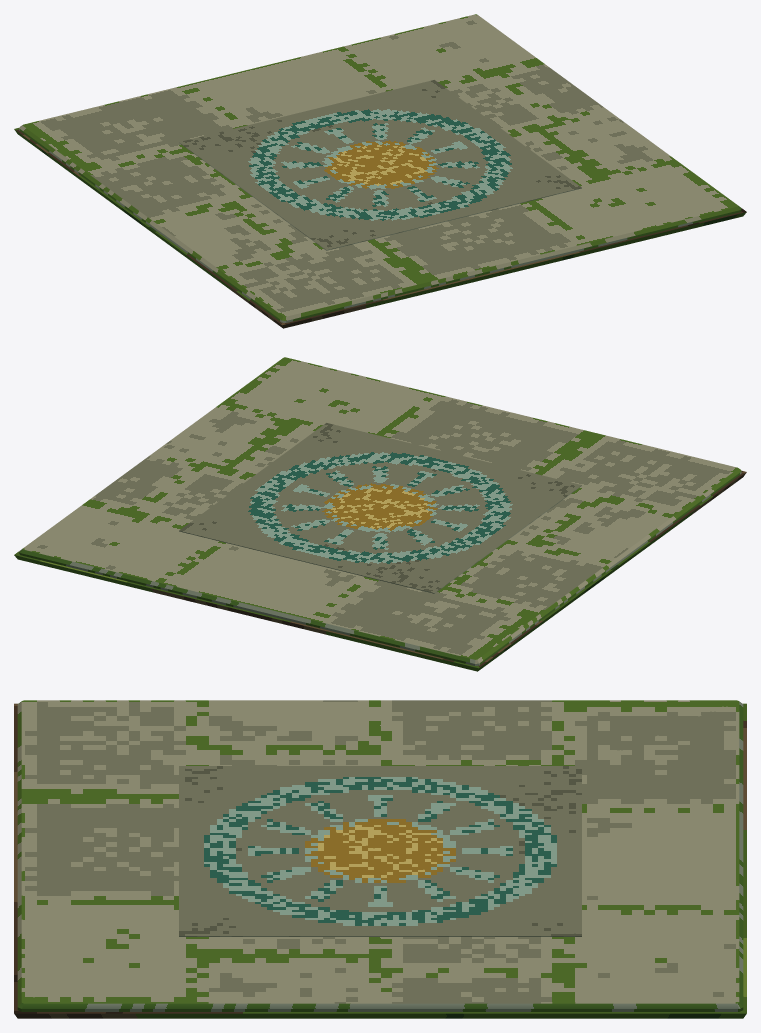
Rendered from ruin.floor__inlay.glb.
3 views of the same model, one above another, from view 1: azimuth 30°, elevation 25°; view 2: azimuth 150°, elevation 25°; view 3: azimuth 270°, elevation 25° (orthographic). The views are drawn at different scales.
Visible parts, largest first — view 1: kit_slab, kit_inlay, kit_bed; view 2: kit_slab, kit_inlay, kit_bed; view 3: kit_slab, kit_inlay, kit_bed.
Part boxes in pixels (x1=…): kit_slab: x1=19, y1=14, x2=741, y2=322; kit_inlay: x1=179, y1=80, x2=581, y2=250; kit_bed: x1=14, y1=127, x2=746, y2=328; kit_slab: x1=19, y1=357, x2=741, y2=665; kit_inlay: x1=179, y1=423, x2=581, y2=593; kit_bed: x1=14, y1=470, x2=746, y2=671; kit_slab: x1=17, y1=700, x2=743, y2=1011; kit_inlay: x1=179, y1=766, x2=581, y2=936; kit_bed: x1=14, y1=703, x2=746, y2=1018.
Size of the model in its own units: 4 by 0.085 by 4.
Materials: 4 (4 with a texture image).
